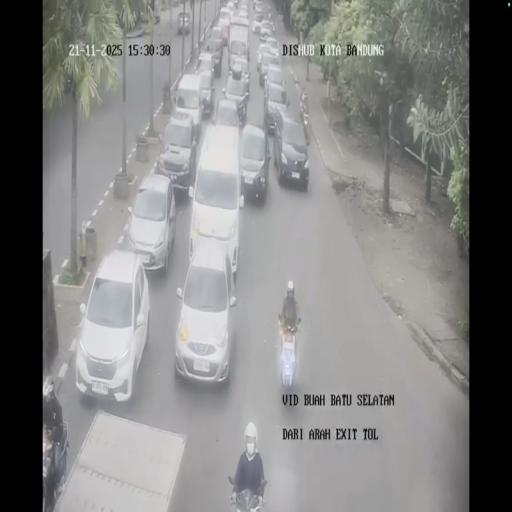3: (227, 20, 250, 72)
car: (76, 250, 151, 401), (174, 238, 236, 386), (125, 173, 176, 274), (272, 112, 310, 188), (238, 122, 270, 204), (173, 72, 209, 136), (222, 70, 250, 124), (264, 76, 290, 130), (202, 33, 224, 76), (257, 49, 279, 87), (218, 11, 232, 43), (176, 11, 190, 35), (260, 20, 274, 40), (252, 18, 262, 35), (225, 1, 236, 14), (253, 0, 263, 14), (238, 7, 248, 19)
truck: (276, 315, 302, 388)
